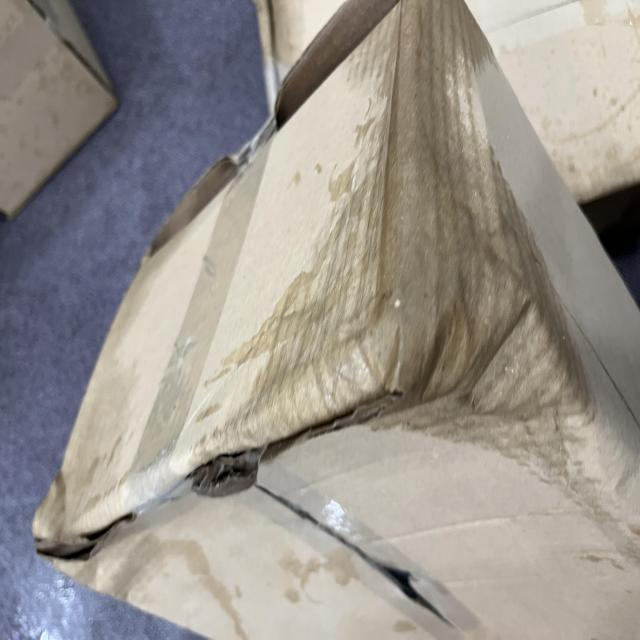wet: (151, 308, 479, 640)
